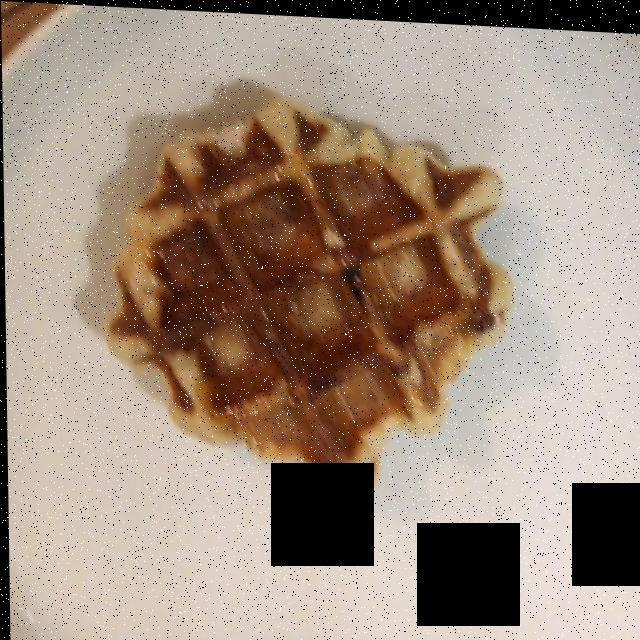waffle: (111, 101, 499, 496)
